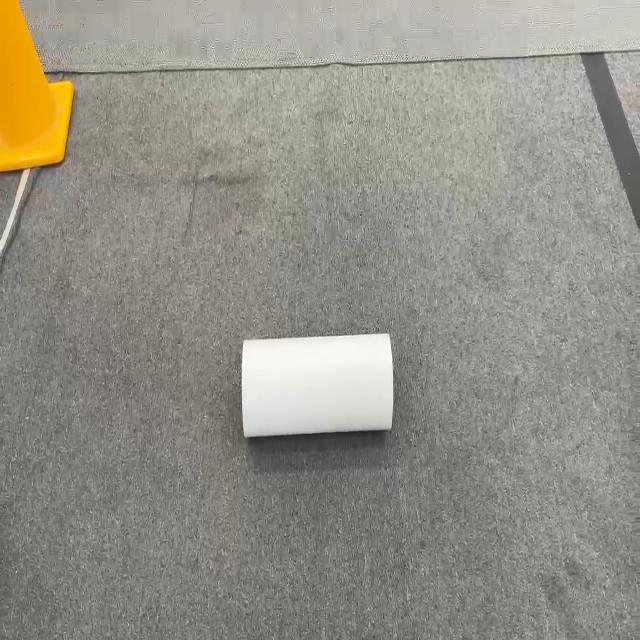coral: (240, 331, 394, 439)
